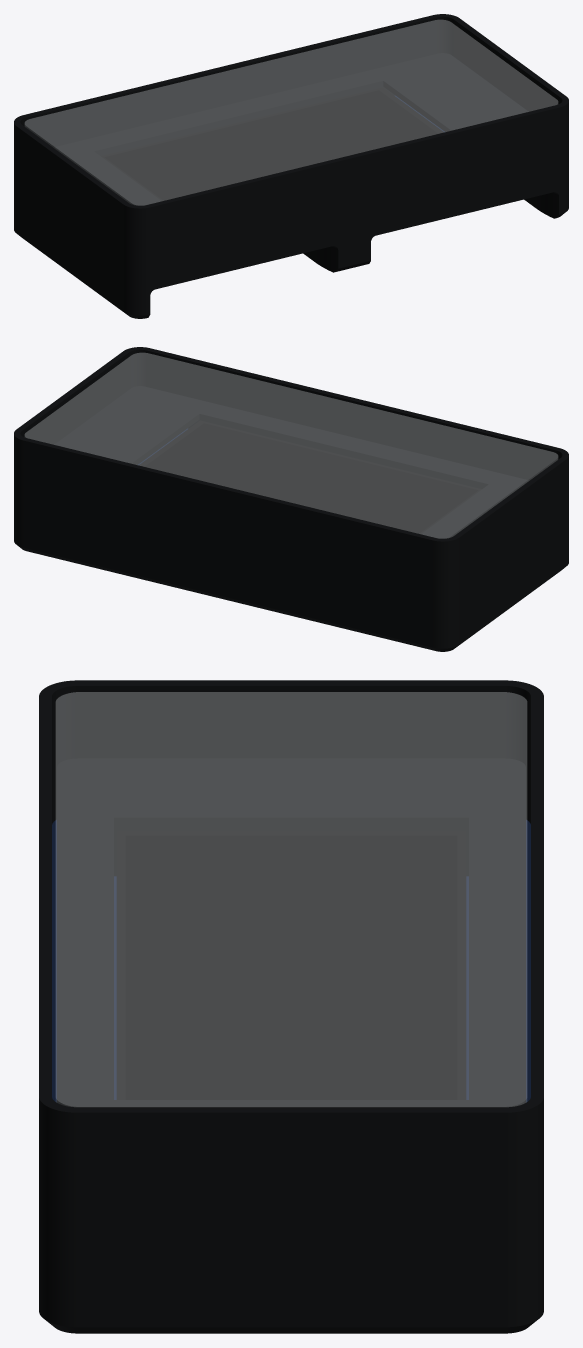
Rendered from screen.glb.
The picture shows the model from 3 angles, top to bottom: view 1: azimuth 30°, elevation 25°; view 2: azimuth 150°, elevation 25°; view 3: azimuth 270°, elevation 25°; orthographic projection. The views are drawn at different scales.
Visible parts, largest first — view 1: black, glass, screen_art, gloss; view 2: black, glass, screen_art, gloss; view 3: black, glass, screen_art, gloss, pcb.
Part boxes in pixels (left/top/right/bottom): black: left=14, top=14, right=568, bottom=318; glass: left=25, top=20, right=557, bottom=205; screen_art: left=104, top=90, right=438, bottom=200; gloss: left=101, top=87, right=443, bottom=201; black: left=14, top=347, right=568, bottom=651; glass: left=25, top=353, right=557, bottom=538; screen_art: left=144, top=423, right=478, bottom=533; gloss: left=139, top=420, right=481, bottom=534; black: left=39, top=680, right=543, bottom=1333; glass: left=56, top=692, right=526, bottom=1106; screen_art: left=125, top=835, right=457, bottom=1099; gloss: left=116, top=830, right=466, bottom=1099; pcb: left=52, top=819, right=530, bottom=1102.
Size of the model in its own units: 0.0395 by 0.00964 by 0.0195.
Materials: 7 (1 with a texture image).
